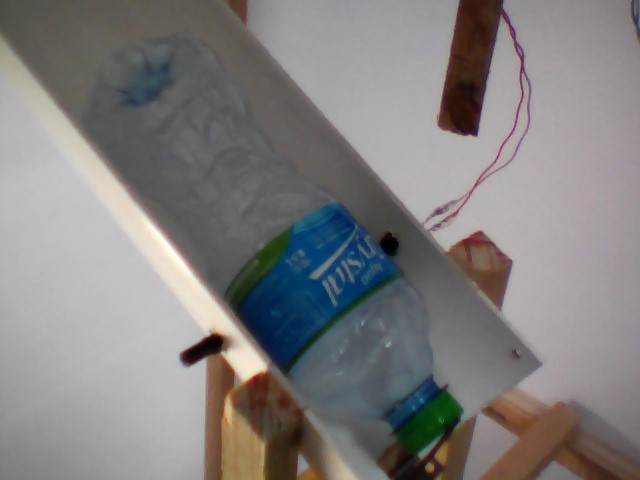plastico: (81, 26, 476, 466)
